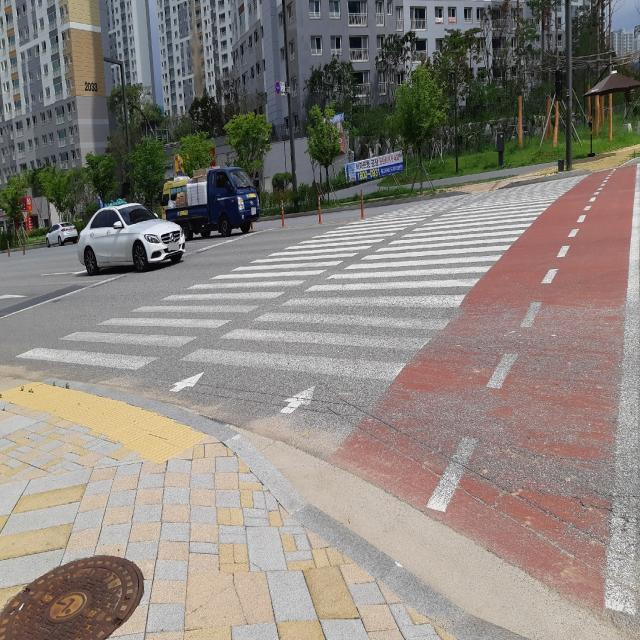횡단보도: (13, 166, 592, 422)
